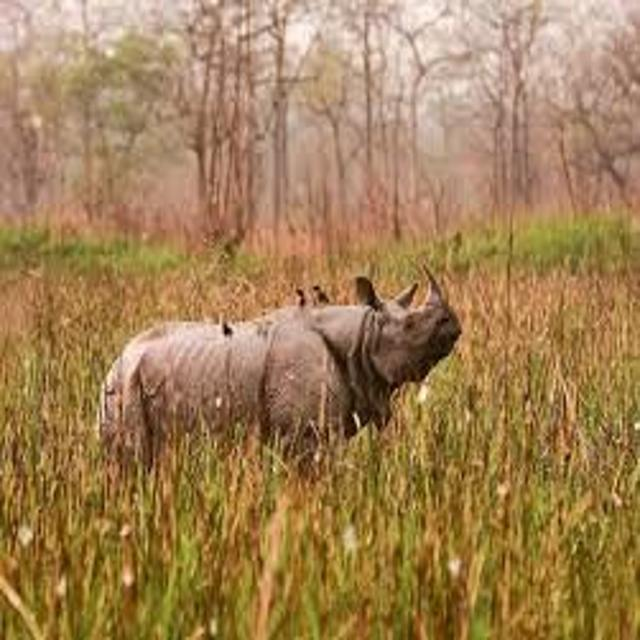Rinoceros: (52, 272, 476, 505)
